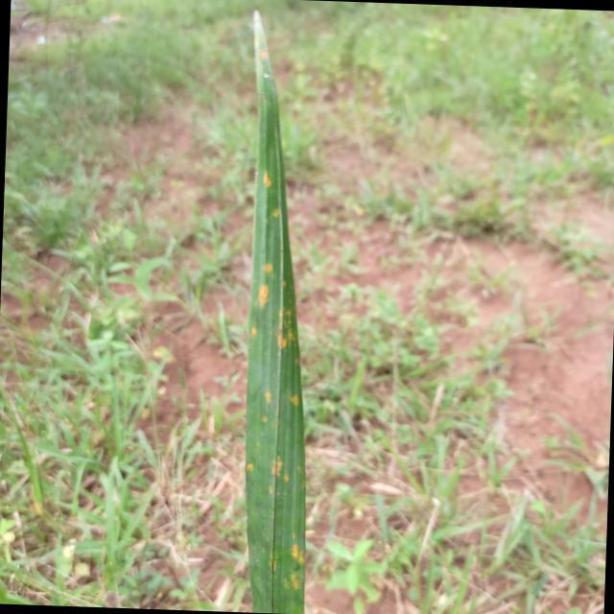Kalium: (244, 1, 307, 614)
